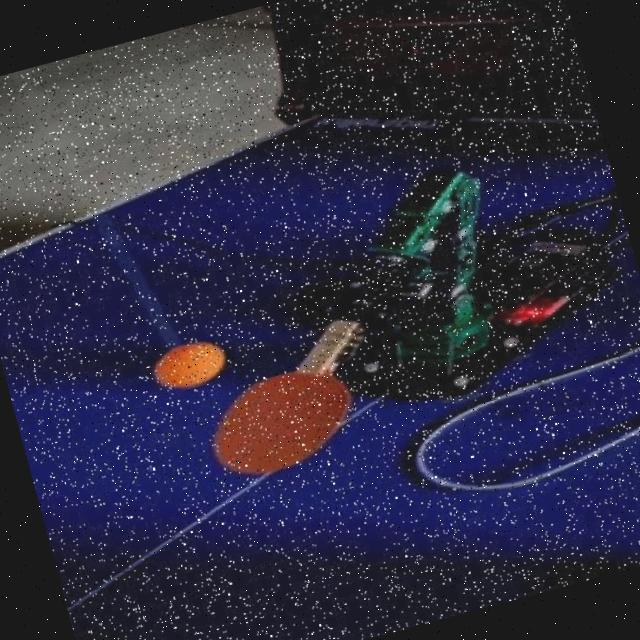ping-pong-ball: (151, 338, 225, 392)
